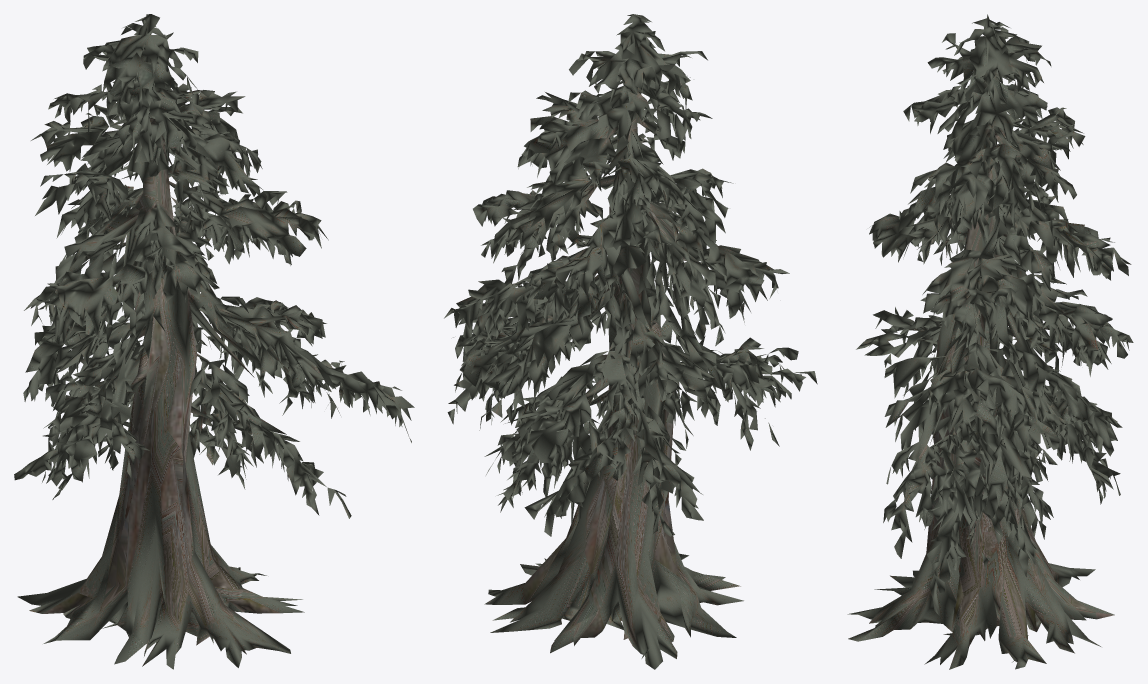
File: tree_cedar.glb
3 renders of one model, left to right at view 1: azimuth 30°, elevation 25°; view 2: azimuth 150°, elevation 25°; view 3: azimuth 270°, elevation 25°, orthographic. The views are drawn at different scales.
Parts seen in each view (by area): view 1: tree_cedar; view 2: tree_cedar; view 3: tree_cedar.
Part boxes in pixels (x1=…): tree_cedar: x1=14, y1=14, x2=414, y2=669; tree_cedar: x1=444, y1=14, x2=817, y2=669; tree_cedar: x1=847, y1=14, x2=1133, y2=669.
Size of the model in its own units: 117 by 189 by 83.54.
1 material, 1 textured.
